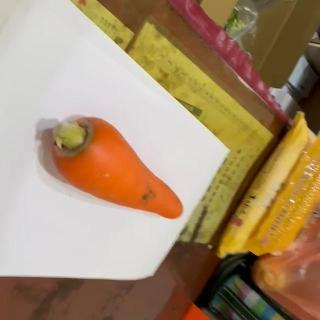carrot: (49, 117, 183, 219)
